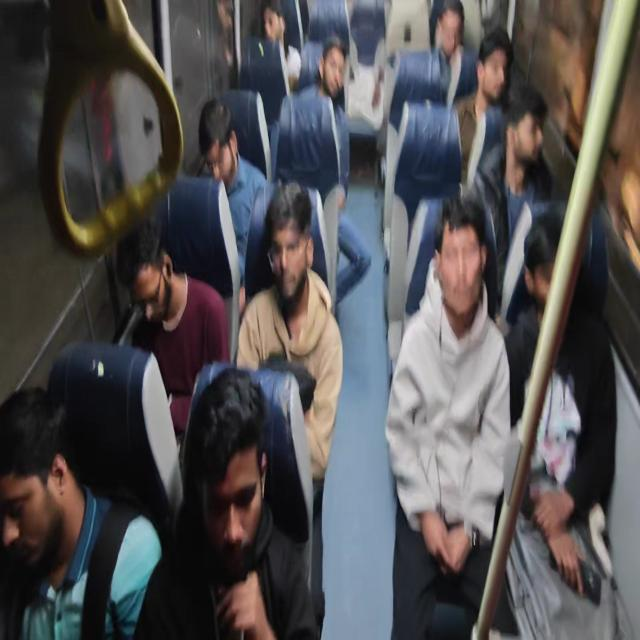person: (174, 336, 282, 631), (0, 385, 100, 640), (525, 210, 640, 366), (241, 184, 328, 337), (434, 214, 516, 352), (108, 215, 192, 337), (436, 2, 500, 135), (188, 91, 263, 203), (464, 26, 524, 128), (348, 40, 398, 132), (312, 40, 361, 115), (258, 0, 294, 68), (521, 114, 553, 189)
